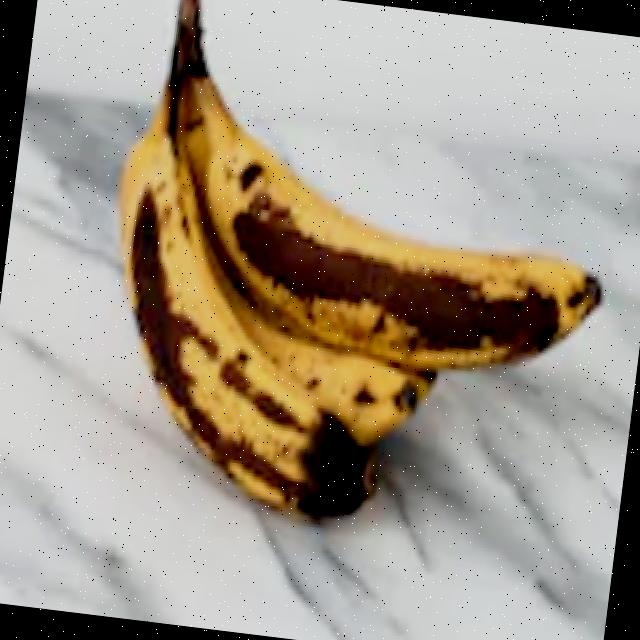rotten banana: (30, 0, 622, 618)
